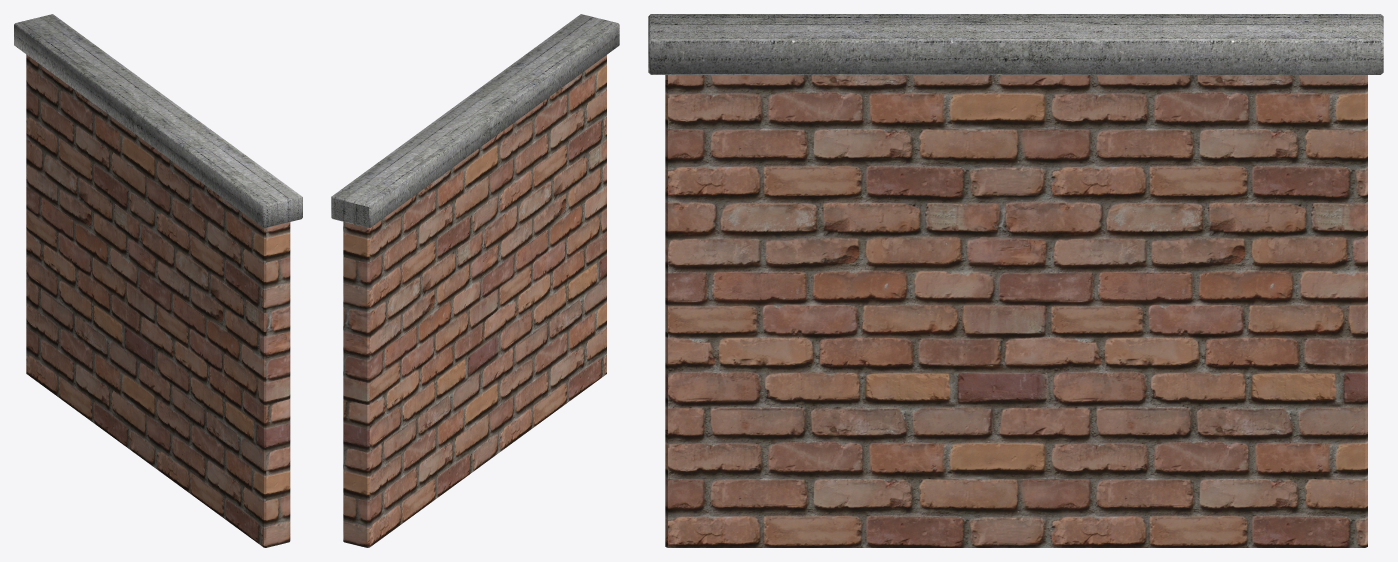
Rendered from wall1.FBX.
3 views of the same model, side by side, from view 1: azimuth 30°, elevation 25°; view 2: azimuth 150°, elevation 25°; view 3: azimuth 270°, elevation 25° (orthographic). The views are drawn at different scales.
Parts seen in each view (by area): view 1: brick_wall_small; view 2: brick_wall_small; view 3: brick_wall_small.
Part boxes in pixels (x1,y1,x2,y2): brick_wall_small: [14, 14, 302, 547]; brick_wall_small: [331, 14, 619, 547]; brick_wall_small: [648, 14, 1383, 547].
Bounding box in the file's own units: 69.05 × 570 × 743.
